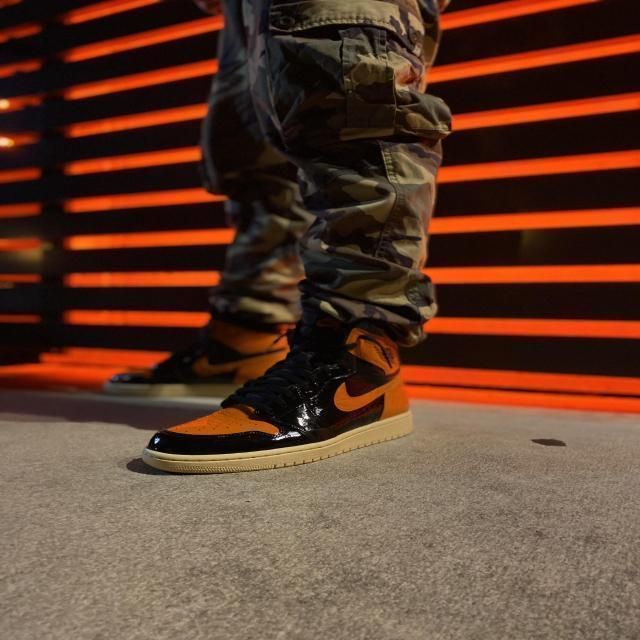shoes: (138, 318, 424, 476), (98, 312, 301, 399)
